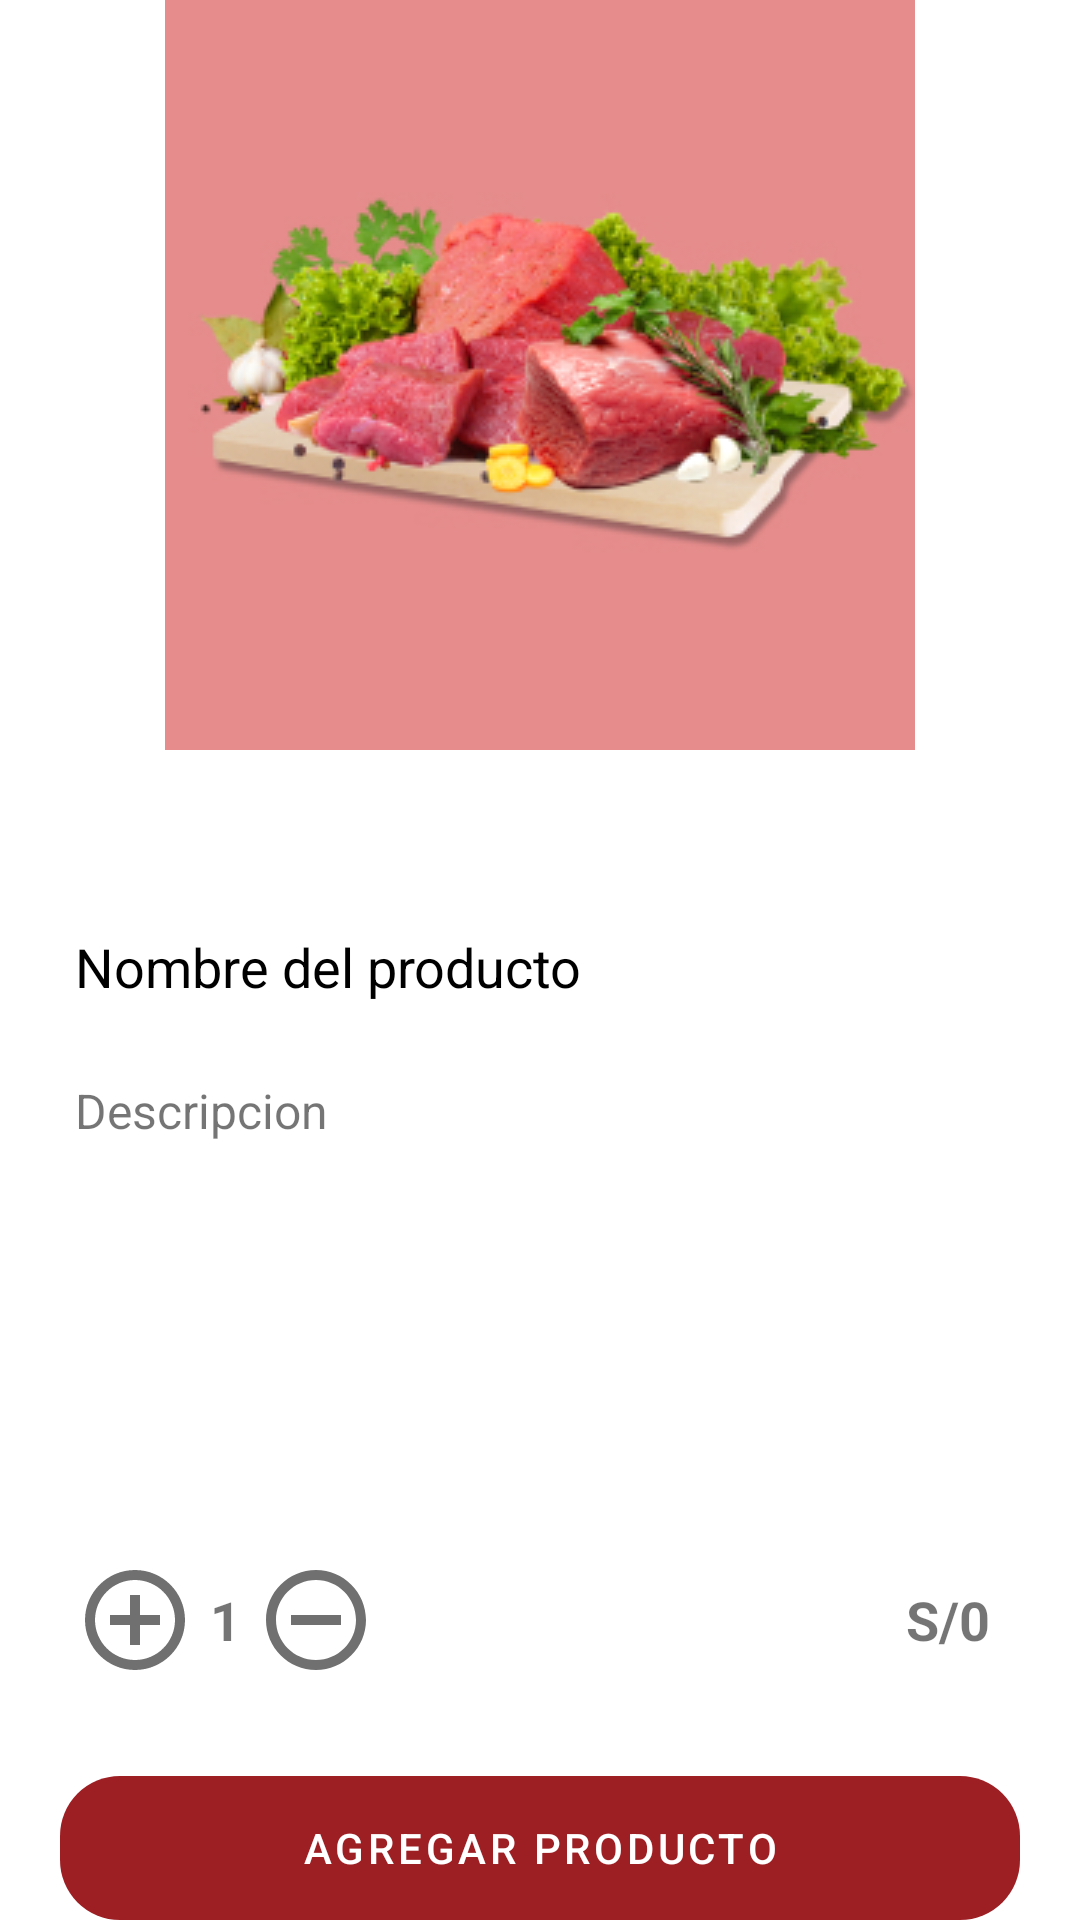

Screen size 1080px x 1920px. Icon name, then its box in pixels as [x1,y1,x2,y2]:
add circle: [85,1570,185,1670]
remove: [266,1570,366,1670]
